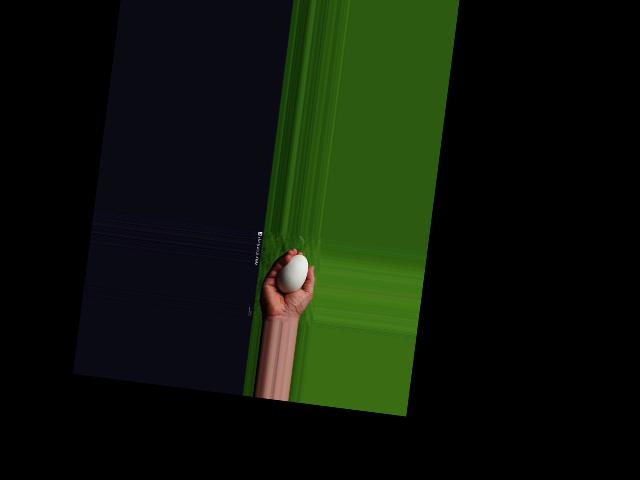egg: (274, 252, 309, 296)
